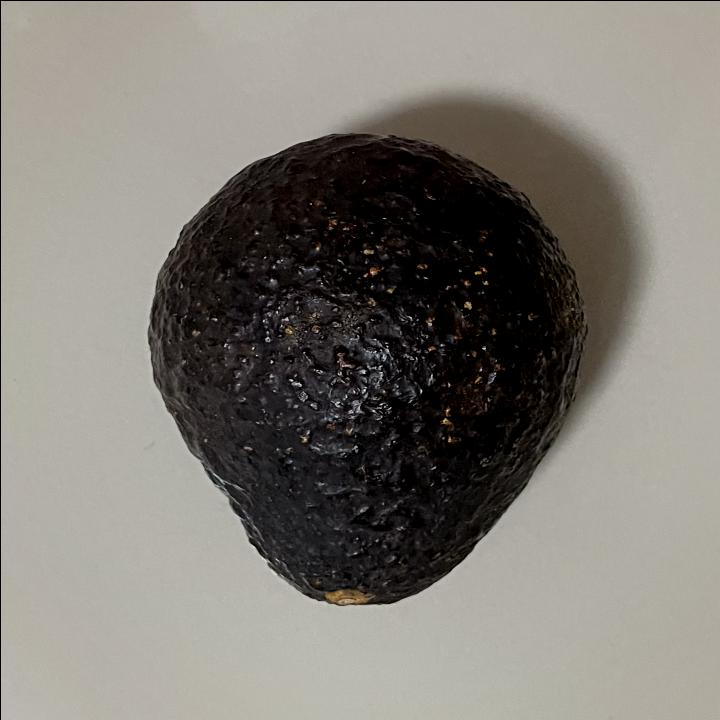Level3: (134, 122, 601, 622)
